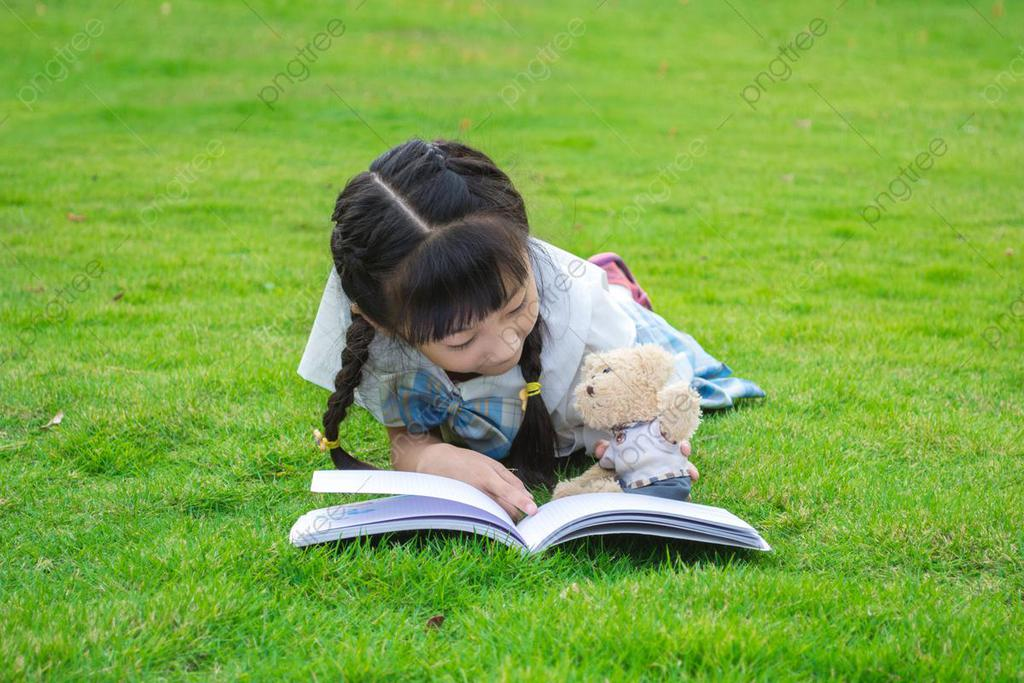child: (276, 146, 771, 499)
